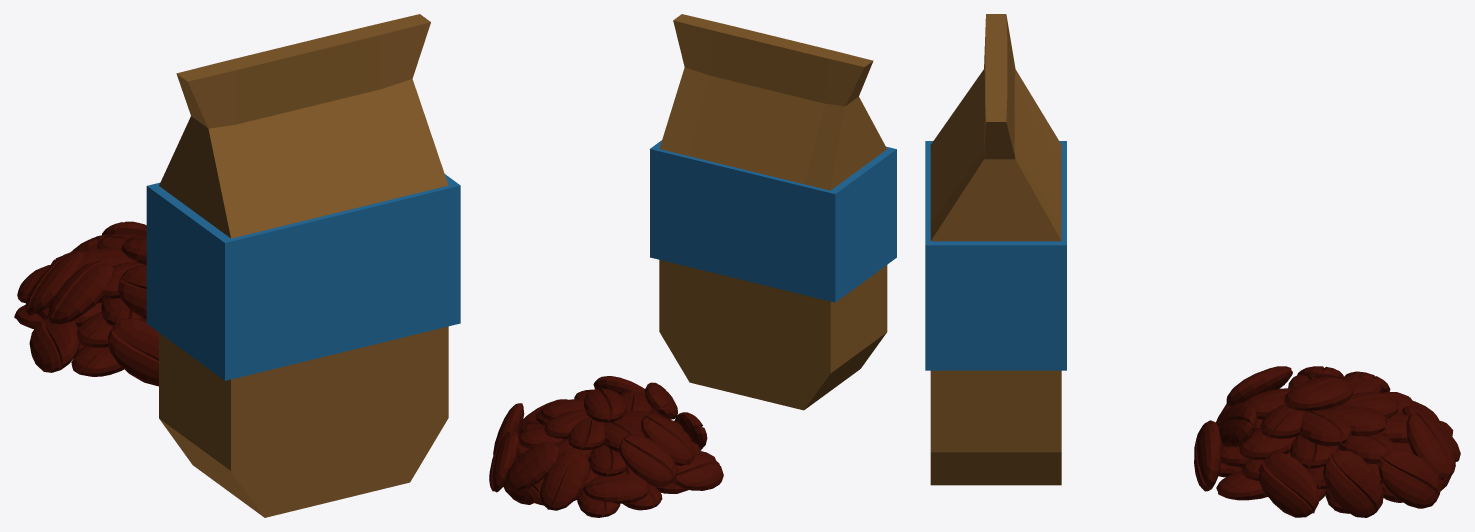
File: CofeeBean_PileFinal.fbx
3 renders of one model, left to right at view 1: azimuth 30°, elevation 25°; view 2: azimuth 150°, elevation 25°; view 3: azimuth 270°, elevation 25°, orthographic. The views are drawn at different scales.
Visible parts, largest first — view 1: Coffee Bag; view 2: Coffee Bag; view 3: Coffee Bag.
Boxes of the visible parts, left/top/right/bottom form: Coffee Bag: left=14, top=14, right=460, bottom=517; Coffee Bag: left=489, top=14, right=896, bottom=517; Coffee Bag: left=925, top=14, right=1460, bottom=517.
Bounding box in the file's own units: 145 × 215 × 269.
